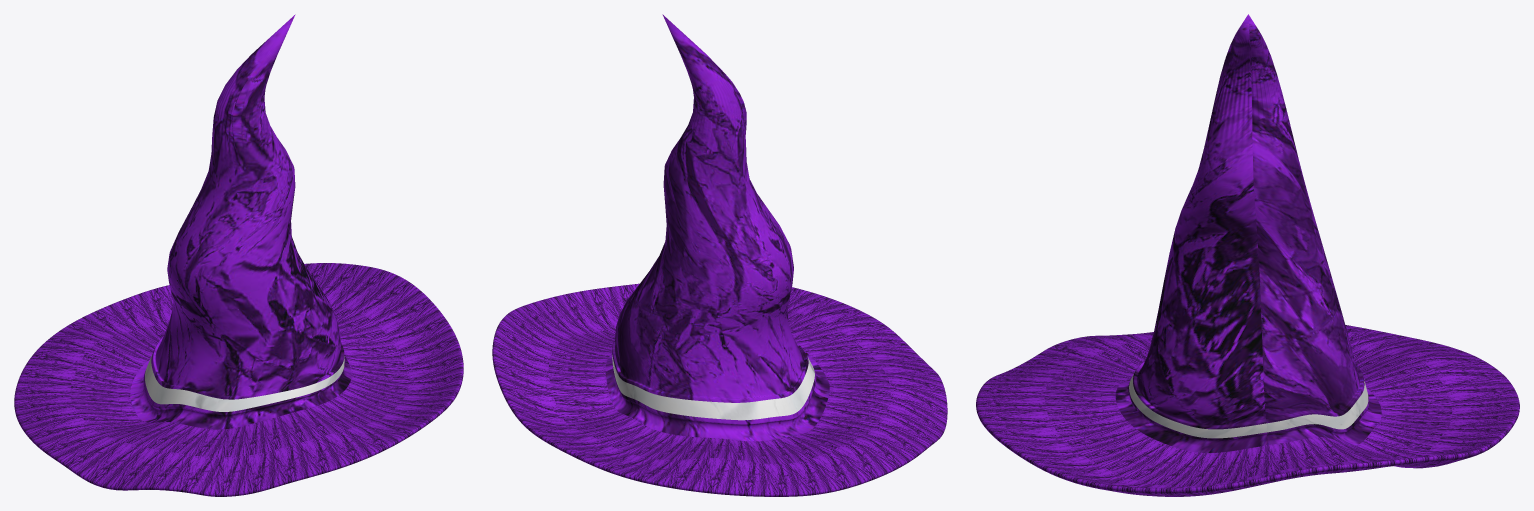
The model's file is magic_hat.fbx.
3 views of the same model, side by side, from view 1: azimuth 30°, elevation 25°; view 2: azimuth 150°, elevation 25°; view 3: azimuth 270°, elevation 25° (orthographic). The views are drawn at different scales.
Visible parts, largest first — view 1: pCone1; view 2: pCone1; view 3: pCone1.
Boxes of the visible parts, x1,y1,x2,y2 form: pCone1: (14, 14, 463, 496); pCone1: (492, 14, 947, 496); pCone1: (976, 14, 1519, 496).
Size of the model in its own units: 4.67 by 4.42 by 4.7.
2 materials, 2 textured.
